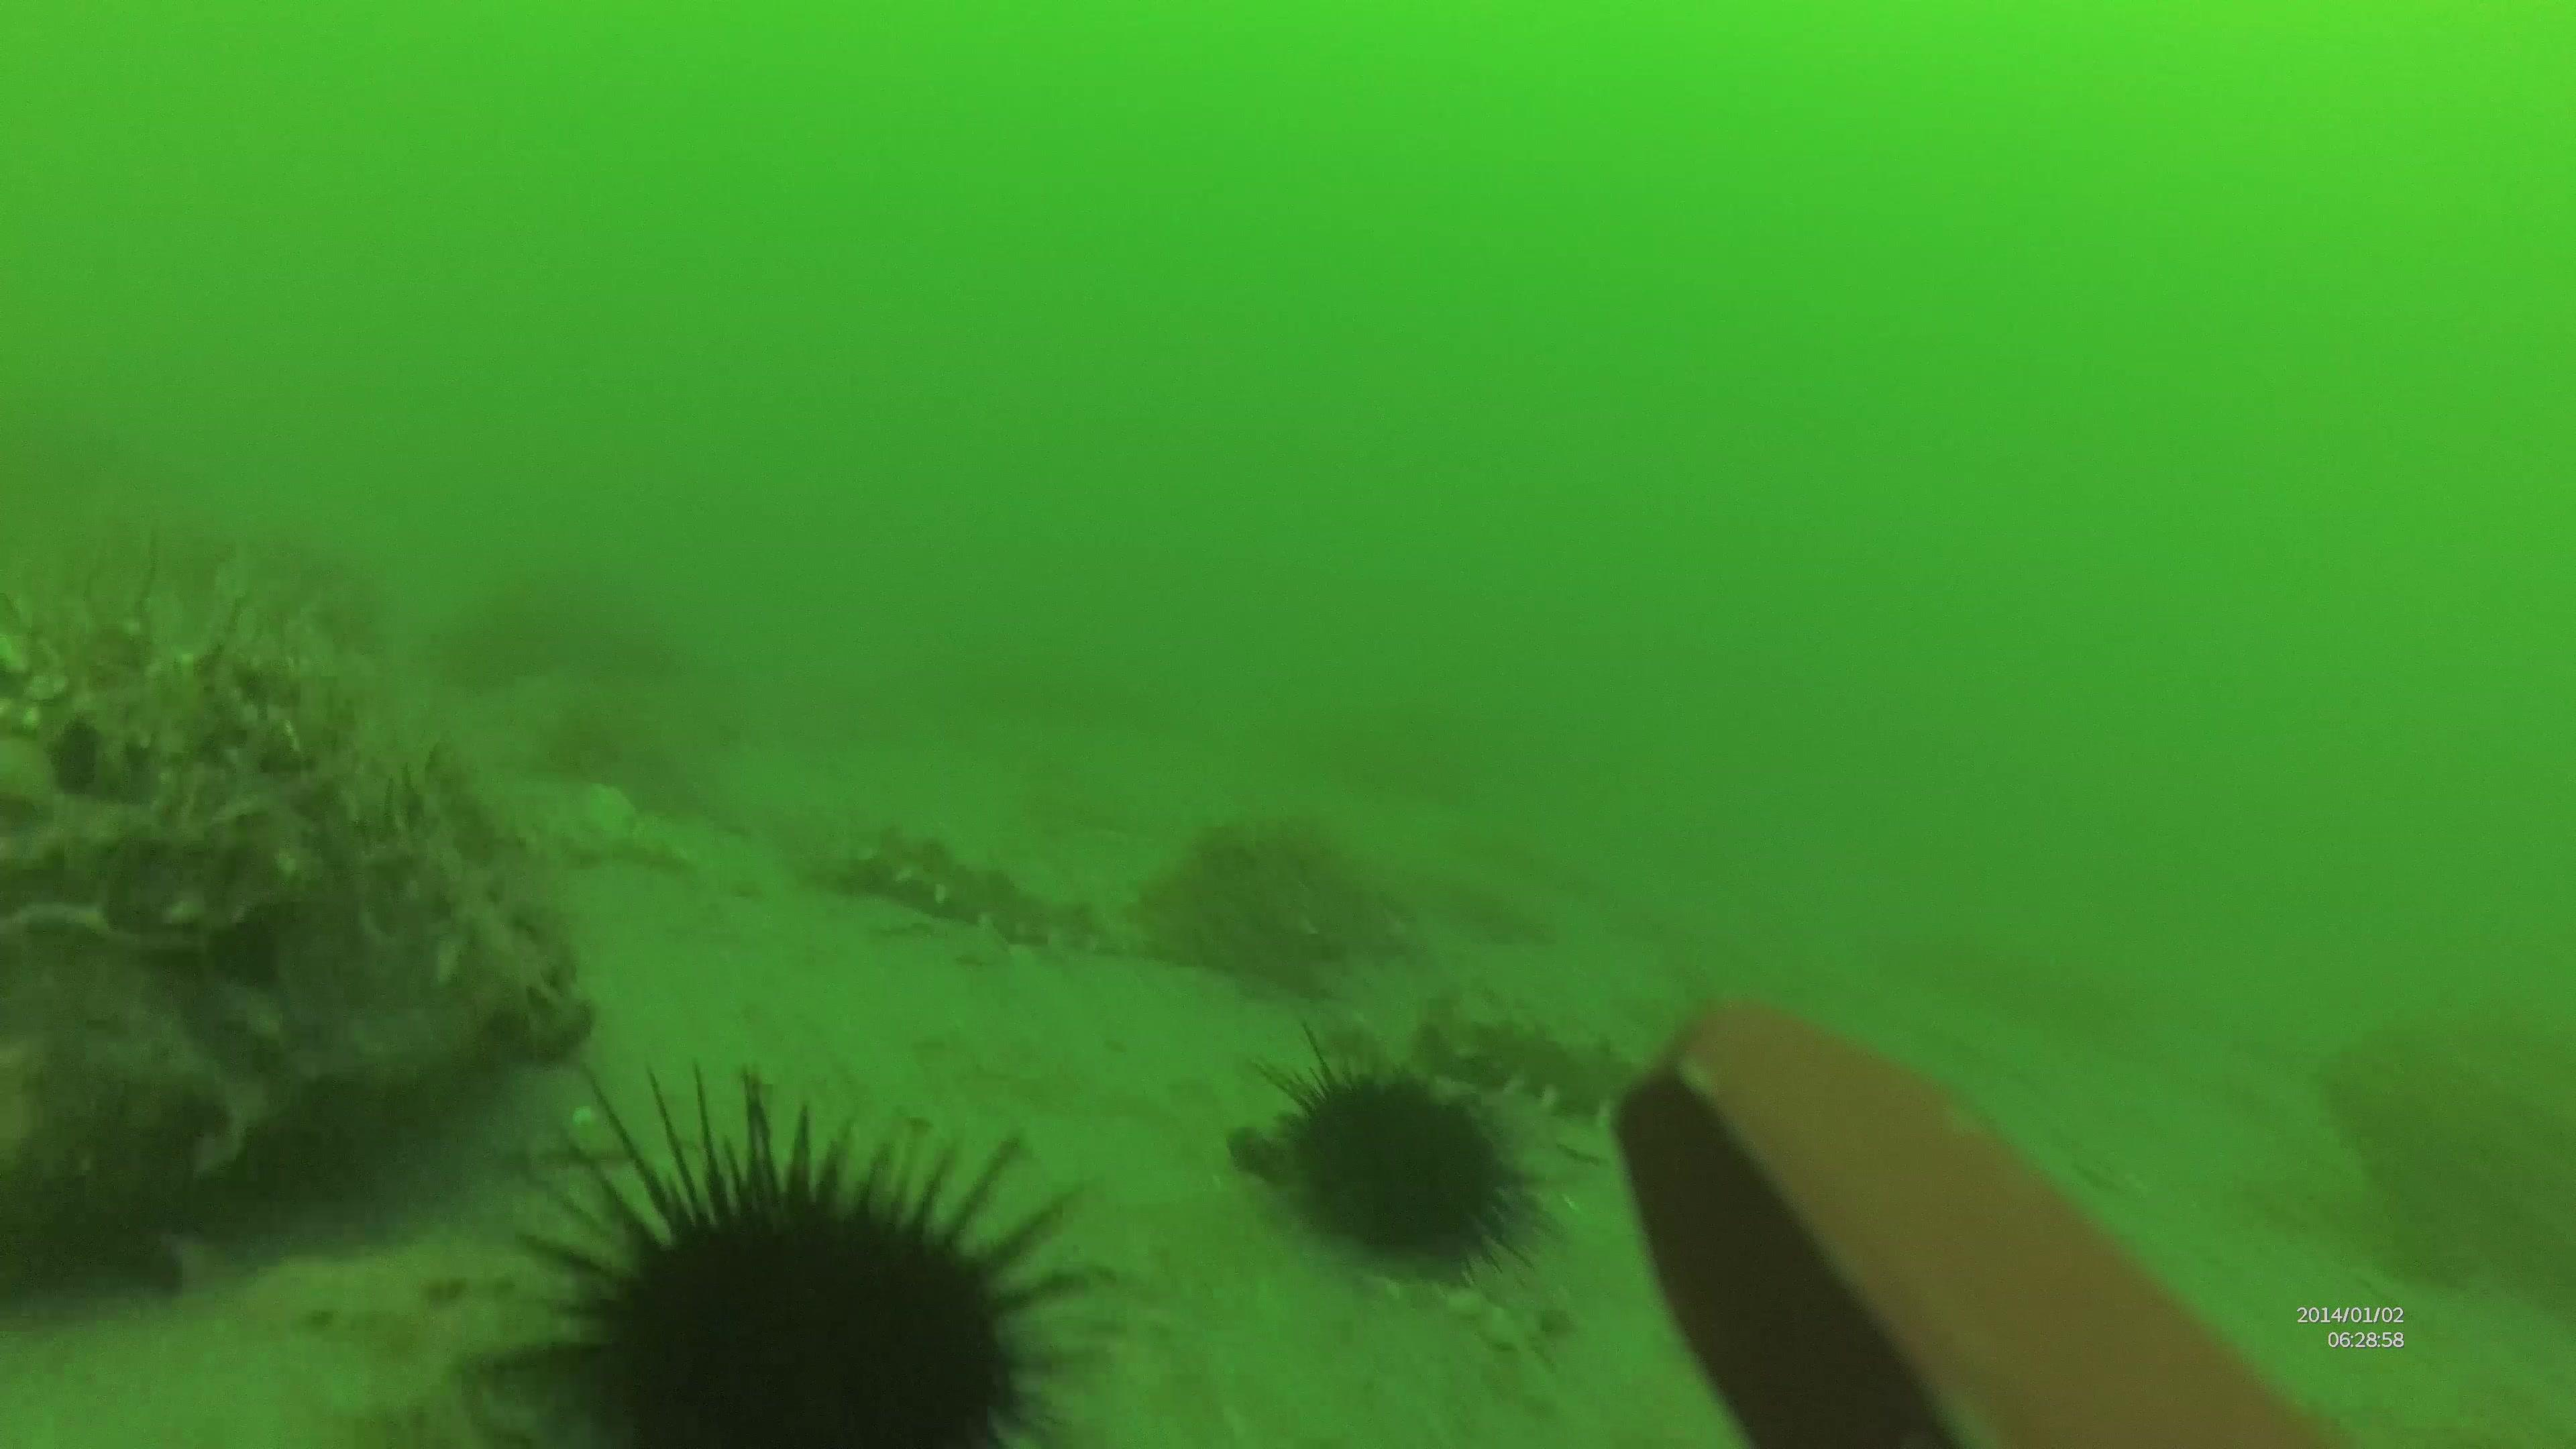echinus: (472, 1067, 1097, 1449), (1253, 1031, 1507, 1281)
holothurian: (1419, 1005, 1755, 1161), (833, 817, 1109, 966)
